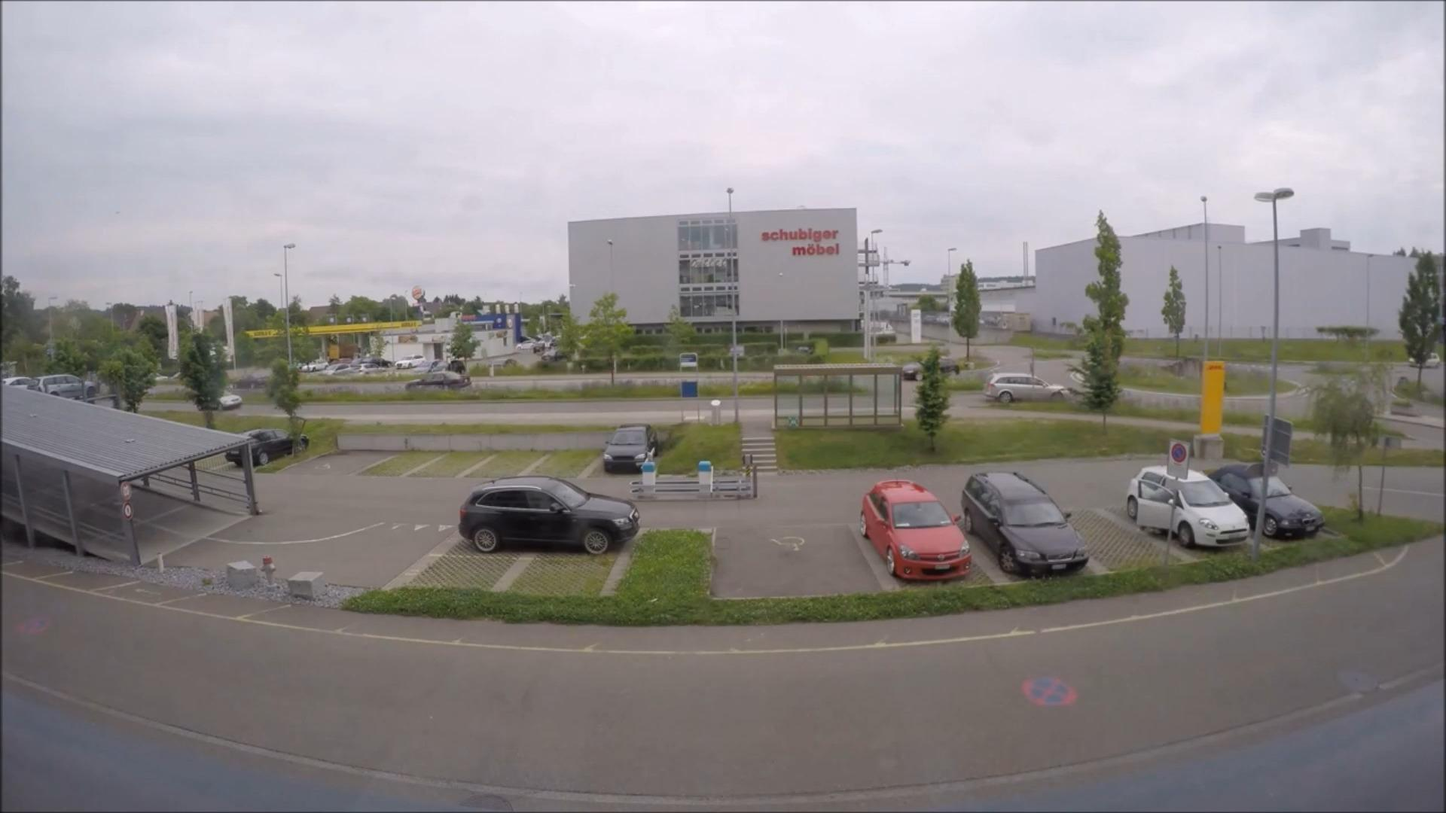occupied: (456, 475, 642, 556), (962, 469, 1091, 576), (860, 480, 968, 581), (1126, 465, 1252, 550), (602, 423, 659, 473), (986, 372, 1071, 403), (31, 373, 92, 400), (405, 372, 472, 391), (195, 392, 244, 412), (395, 354, 429, 370), (357, 358, 394, 370), (324, 362, 356, 374), (3, 376, 34, 388), (298, 360, 328, 372)
